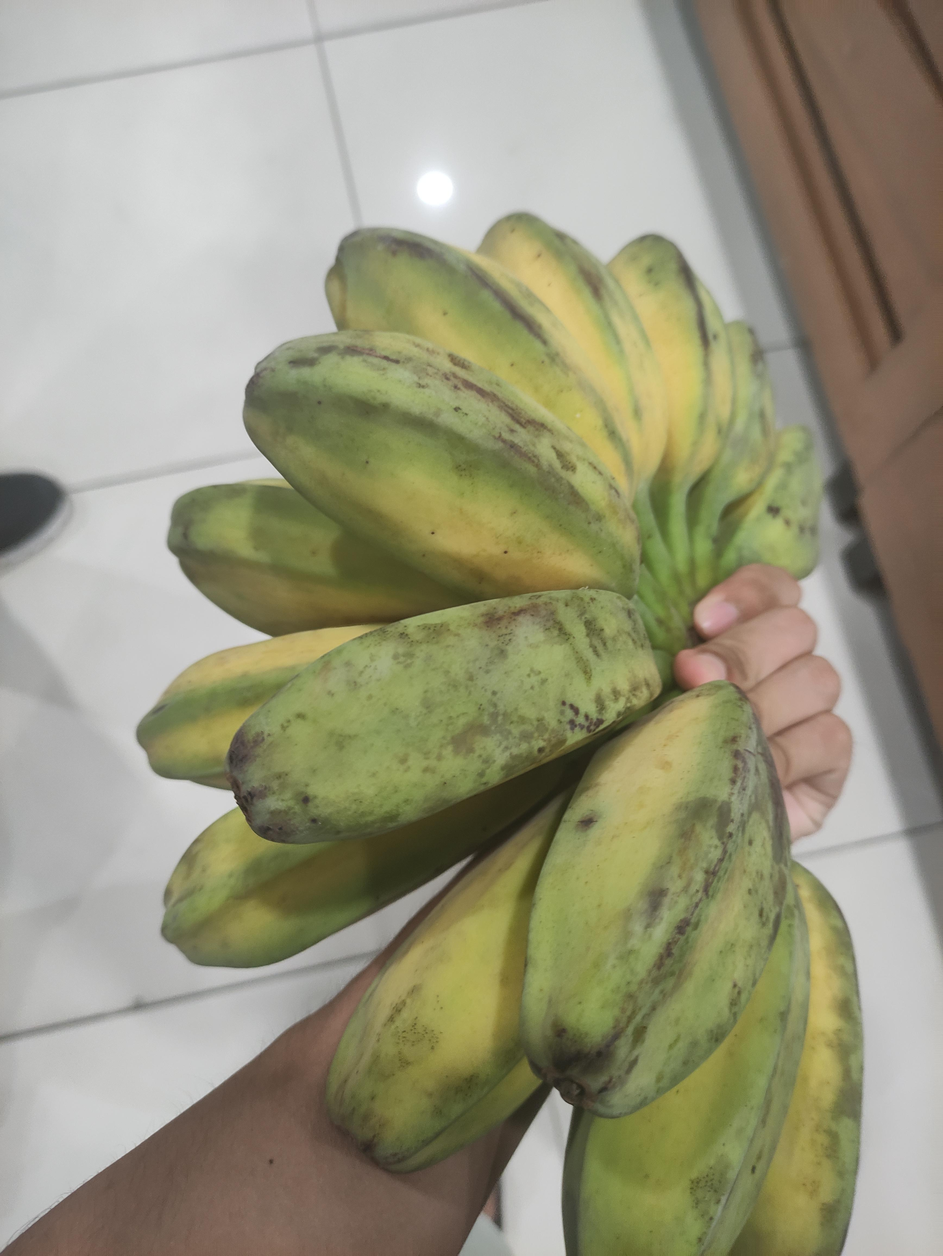underripe: (138, 213, 862, 1256)
